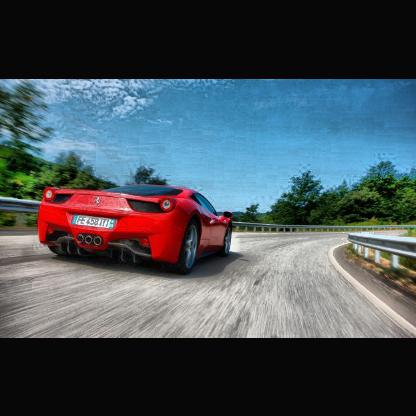Ferrari 458 Italia Convertible 2012: (39, 184, 235, 276)
